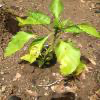Bell_pepper leaf: (53, 38, 81, 74), (4, 31, 38, 57), (25, 9, 52, 25), (74, 23, 100, 39), (49, 0, 66, 18)
